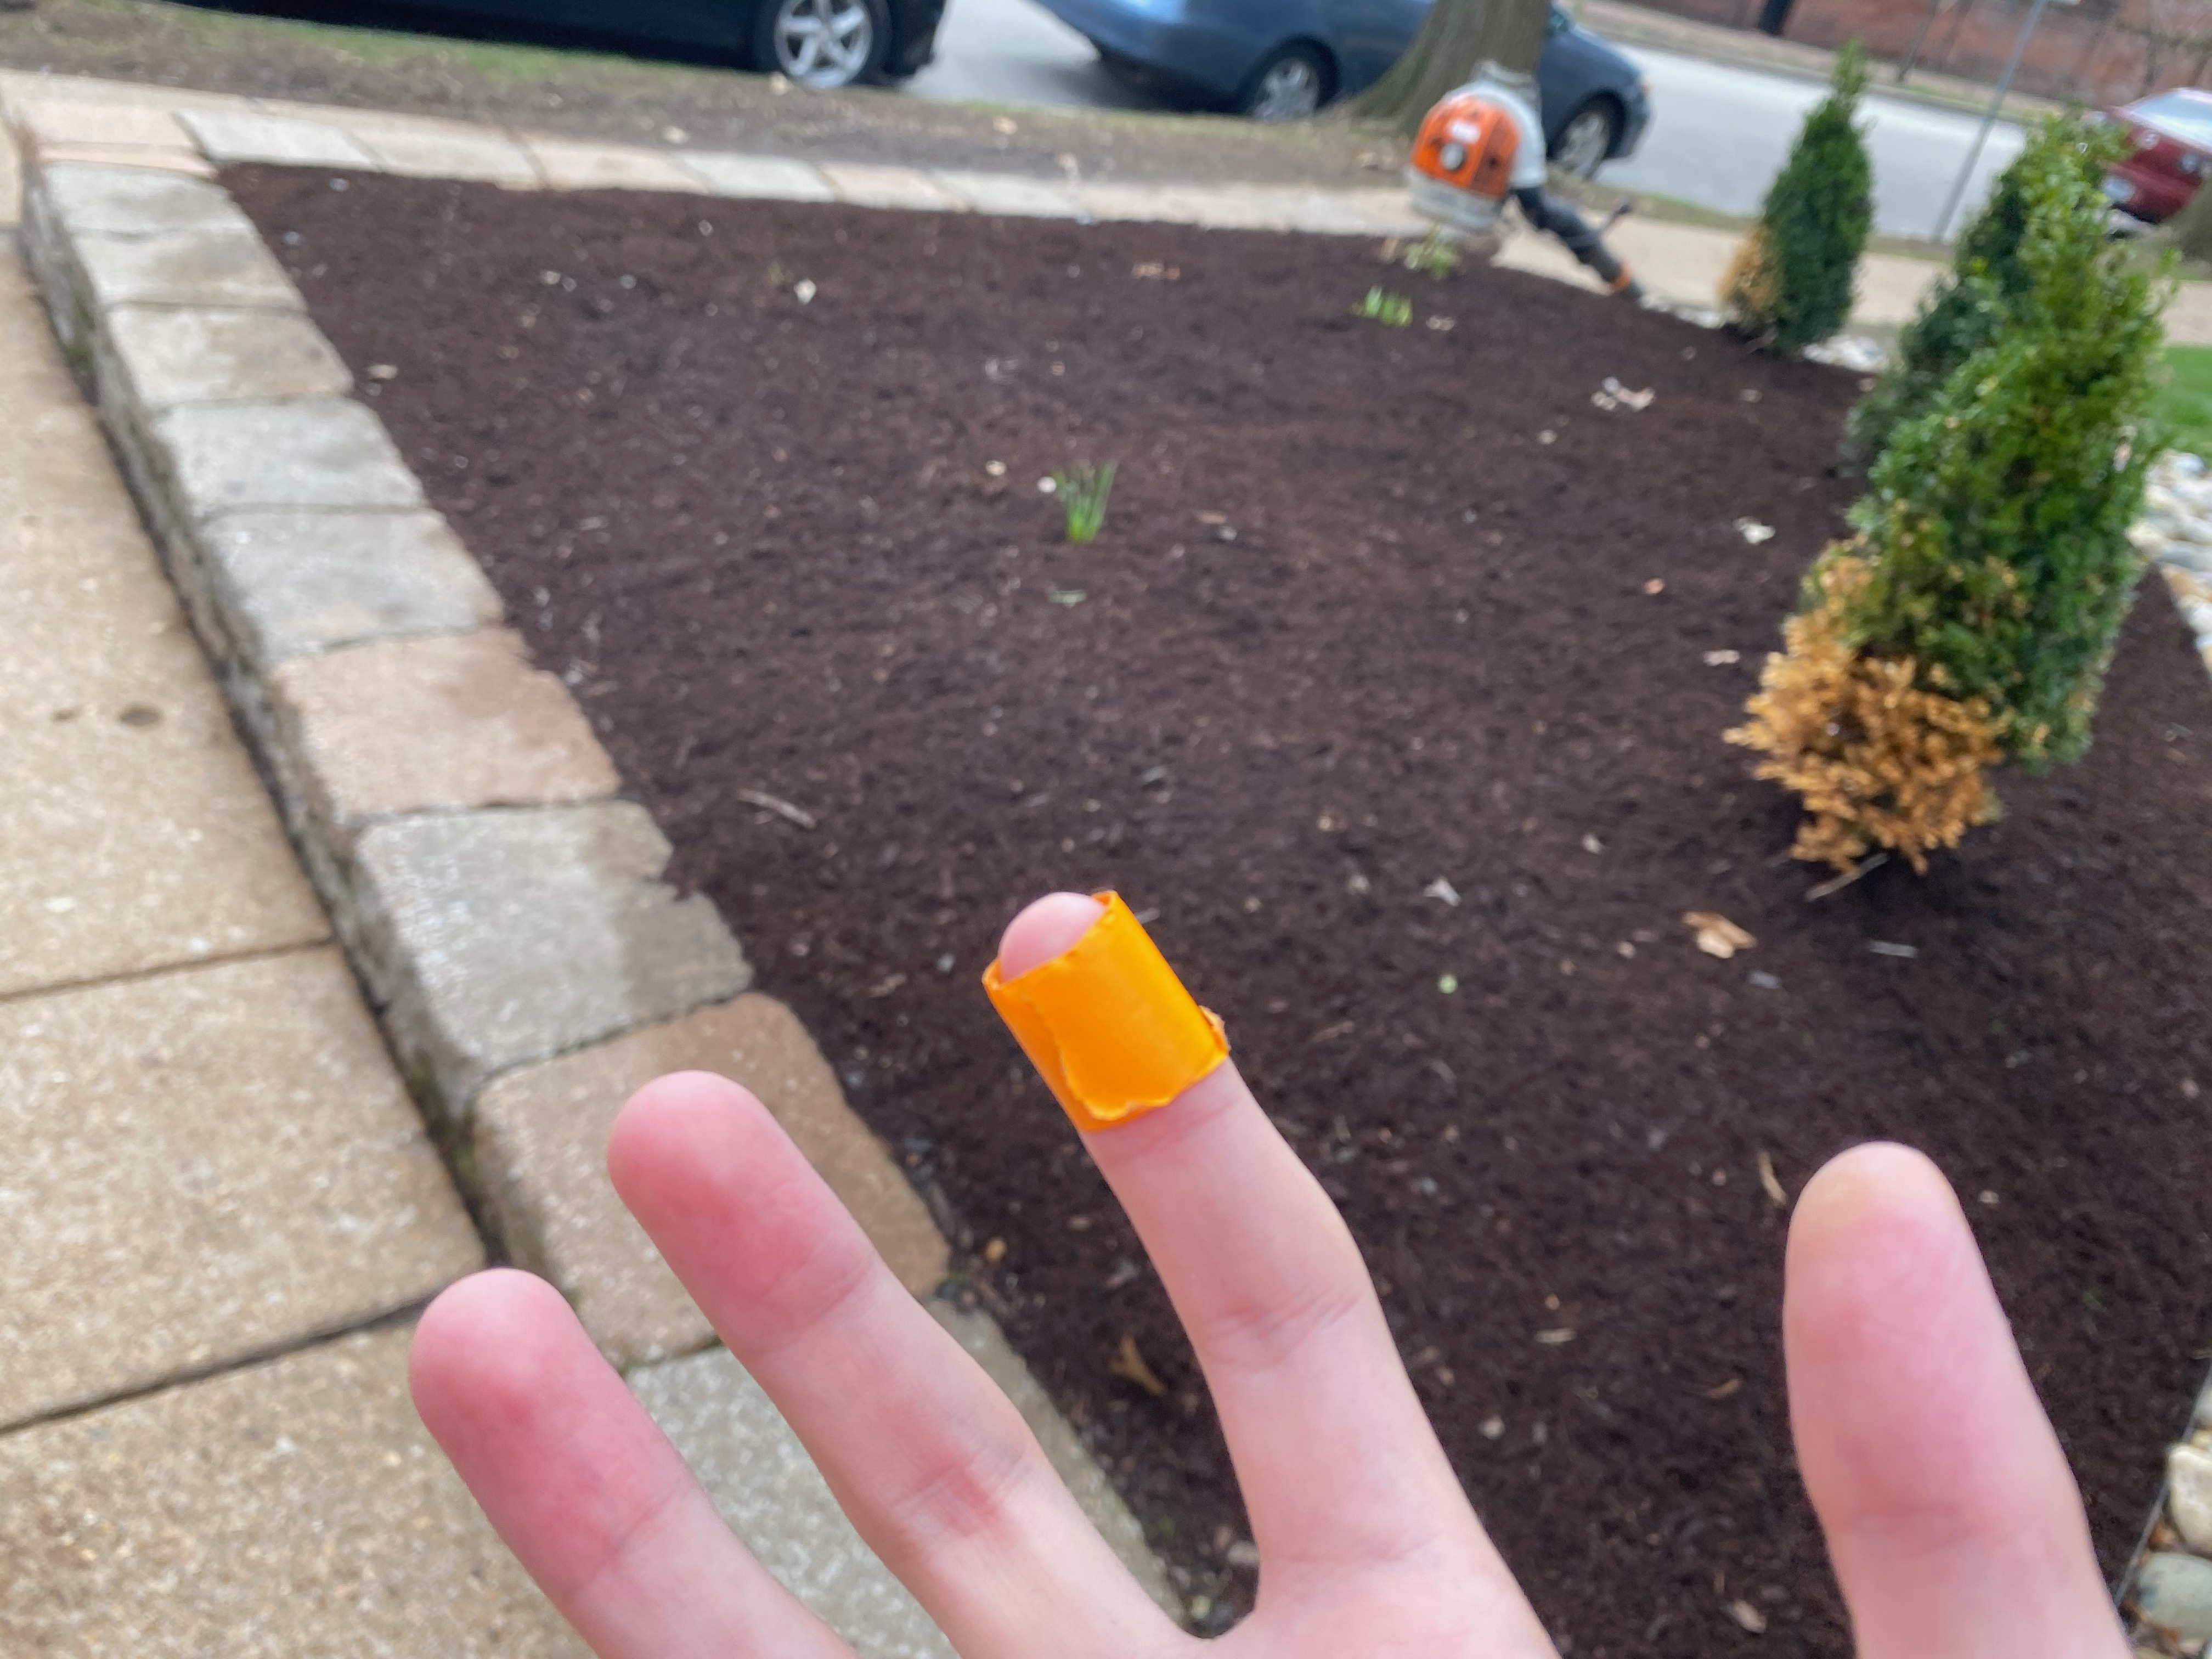fingertip: (968, 884, 1240, 1166)
